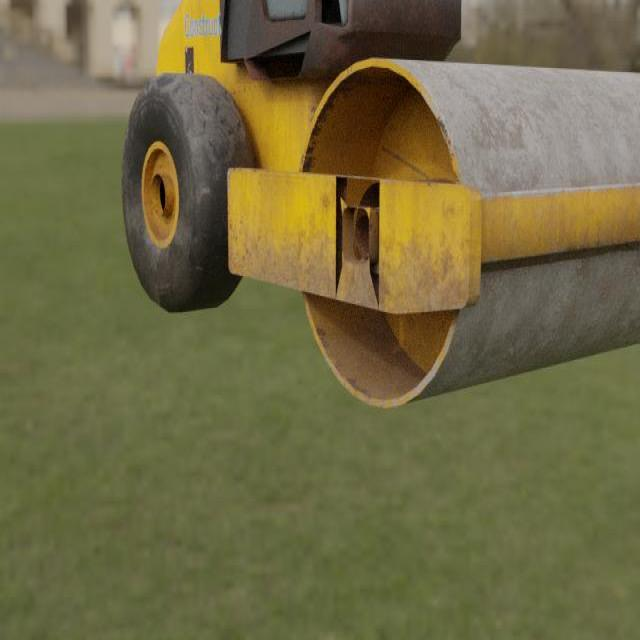Roller: (120, 0, 640, 409)
